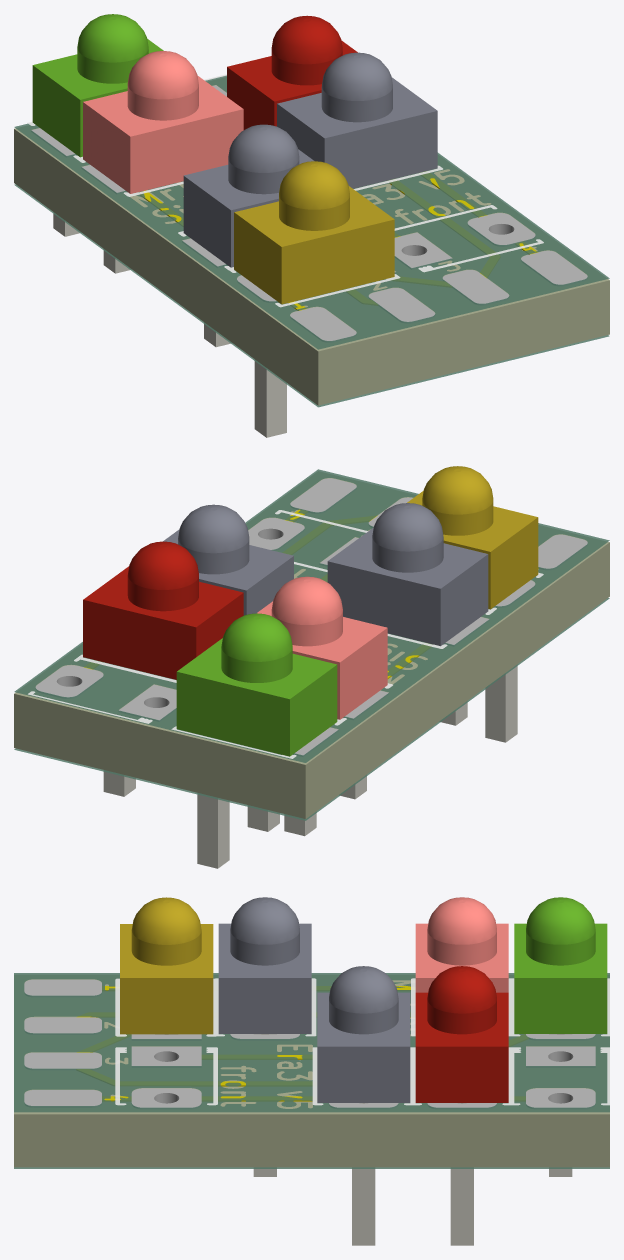
Rendered from MrJ-DB-Era3-prod-exit-test-w2.glb.
The picture shows the model from 3 angles, top to bottom: view 1: azimuth 30°, elevation 25°; view 2: azimuth 150°, elevation 25°; view 3: azimuth 270°, elevation 25°; orthographic projection. The views are drawn at different scales.
Visible parts, largest first — view 1: =>[0:1:1:17], =>[0:1:1:11] (×2), =>[0:1:1:15], =>[0:1:1:9], =>[0:1:1:7], =>[0:1:1:13], =>[0:1:1:5], =>[0:1:1:3], =>[0:1:1:12], =>[0:1:1:14], =>[0:1:1:16]; view 2: =>[0:1:1:17], =>[0:1:1:11] (×2), =>[0:1:1:5], =>[0:1:1:15], =>[0:1:1:3], =>[0:1:1:9], =>[0:1:1:7], =>[0:1:1:13], =>[0:1:1:14], =>[0:1:1:16], =>[0:1:1:12]; view 3: =>[0:1:1:17], =>[0:1:1:15], =>[0:1:1:11] (×2), =>[0:1:1:3], =>[0:1:1:13], =>[0:1:1:5], =>[0:1:1:9], =>[0:1:1:7], =>[0:1:1:14], =>[0:1:1:12], =>[0:1:1:16].
Part boxes in pixels (x1,y1,x2,y2): =>[0:1:1:17]: (14, 77, 609, 405); =>[0:1:1:11] (×2): (183, 52, 437, 347); =>[0:1:1:15]: (14, 75, 609, 349); =>[0:1:1:9]: (234, 161, 394, 437); =>[0:1:1:7]: (83, 51, 243, 273); =>[0:1:1:13]: (31, 85, 587, 341); =>[0:1:1:5]: (32, 14, 163, 236); =>[0:1:1:3]: (227, 15, 357, 129); =>[0:1:1:12]: (140, 173, 537, 310); =>[0:1:1:14]: (27, 74, 543, 307); =>[0:1:1:16]: (14, 184, 609, 407); =>[0:1:1:17]: (14, 471, 609, 818); =>[0:1:1:11] (×2): (163, 503, 488, 725); =>[0:1:1:5]: (176, 613, 337, 868); =>[0:1:1:15]: (14, 469, 609, 762); =>[0:1:1:3]: (83, 541, 243, 796); =>[0:1:1:9]: (407, 466, 538, 742); =>[0:1:1:7]: (247, 576, 387, 831); =>[0:1:1:13]: (35, 478, 587, 756); =>[0:1:1:14]: (28, 510, 543, 758); =>[0:1:1:16]: (14, 598, 609, 820); =>[0:1:1:12]: (84, 509, 538, 678); =>[0:1:1:17]: (14, 975, 609, 1167); =>[0:1:1:15]: (14, 973, 609, 1112); =>[0:1:1:11] (×2): (218, 897, 410, 1245); =>[0:1:1:3]: (415, 966, 508, 1245); =>[0:1:1:13]: (24, 979, 595, 1108); =>[0:1:1:5]: (514, 897, 607, 1176); =>[0:1:1:9]: (120, 897, 213, 1034); =>[0:1:1:7]: (415, 897, 508, 992); =>[0:1:1:14]: (115, 978, 609, 1105); =>[0:1:1:12]: (76, 986, 528, 1101); =>[0:1:1:16]: (14, 1167, 609, 1168).
Size of the model in its own units: 0.00851 by 0.0071 by 0.0154.
